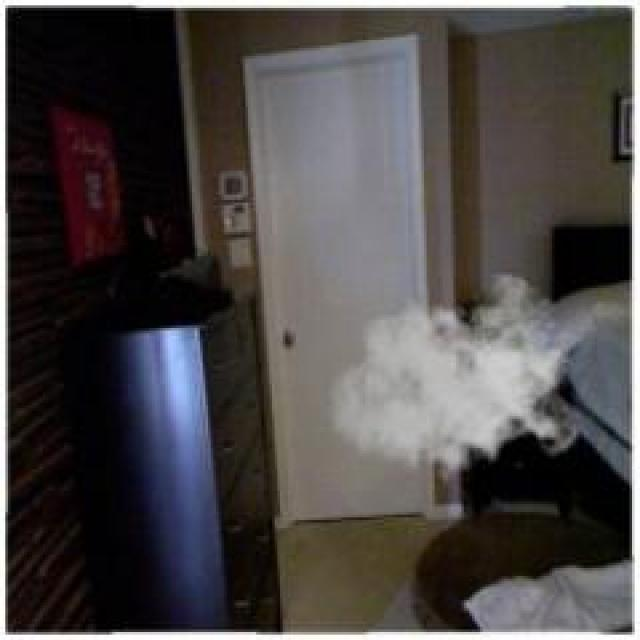smoke: (328, 273, 587, 495)
